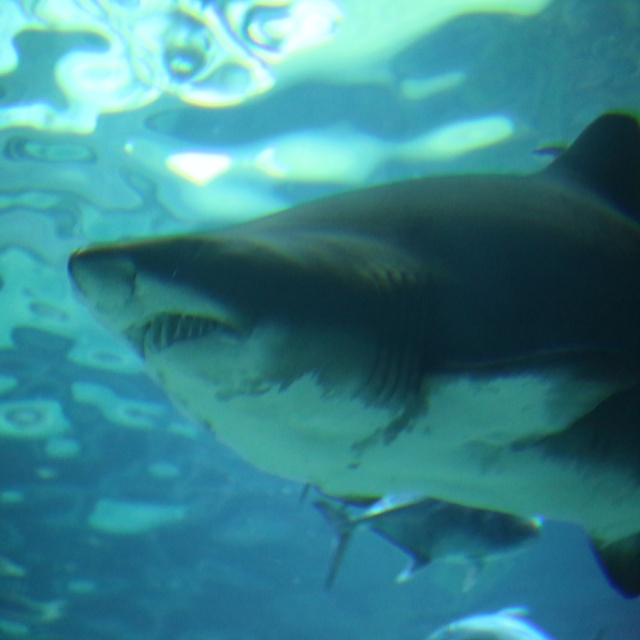Shark: (66, 112, 640, 606)
